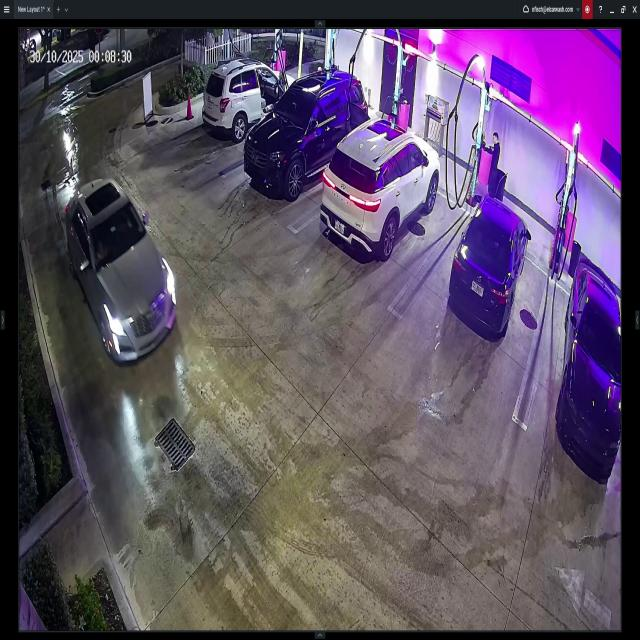Car: (66, 171, 180, 361), (320, 114, 440, 258), (243, 66, 368, 197), (557, 260, 623, 482), (449, 193, 531, 339), (202, 58, 295, 140)
